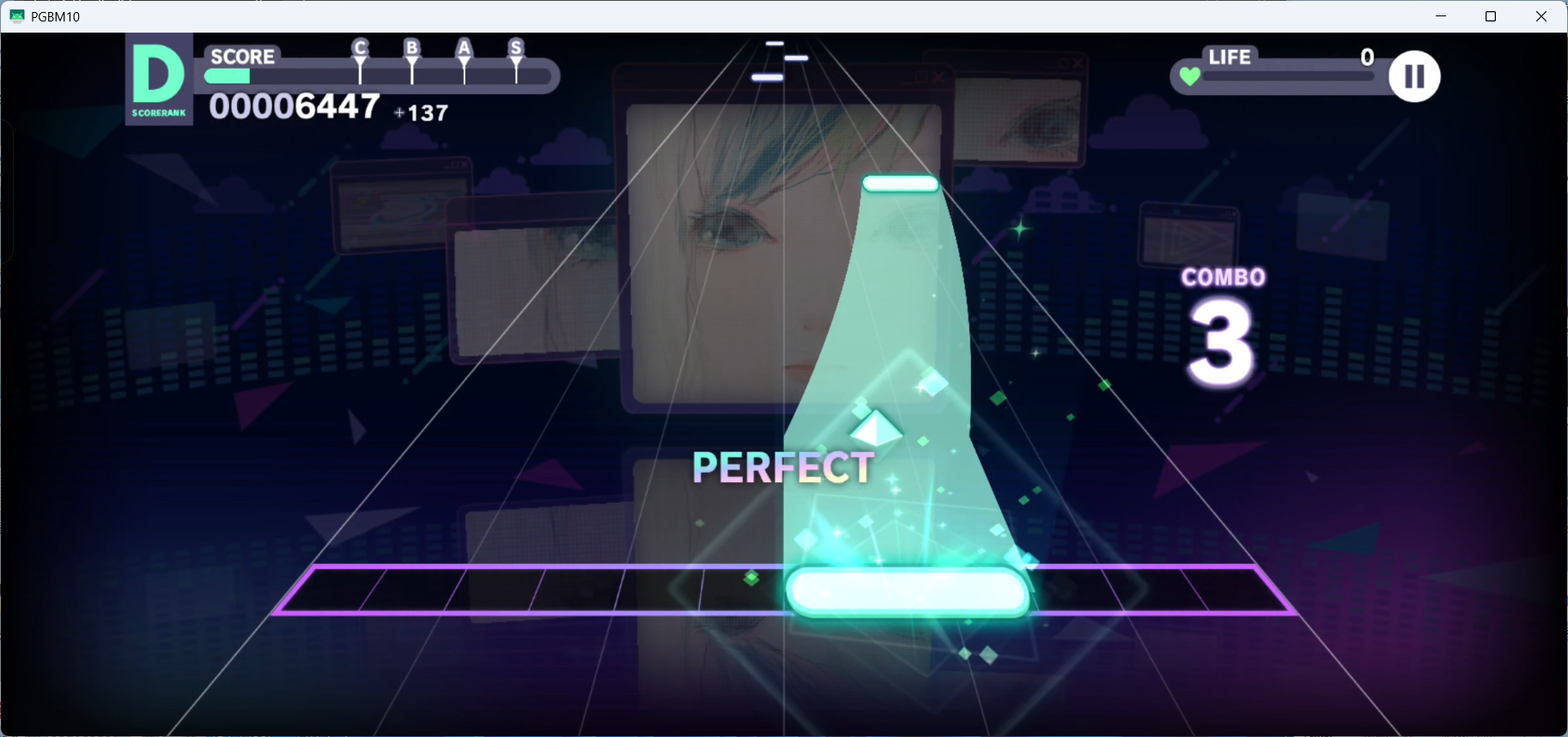hold: (781, 193, 1024, 565)
sweep: (847, 411, 904, 469)
tap: (787, 565, 1032, 619), (862, 175, 939, 192), (751, 73, 783, 81), (783, 55, 807, 60), (764, 41, 783, 45)
